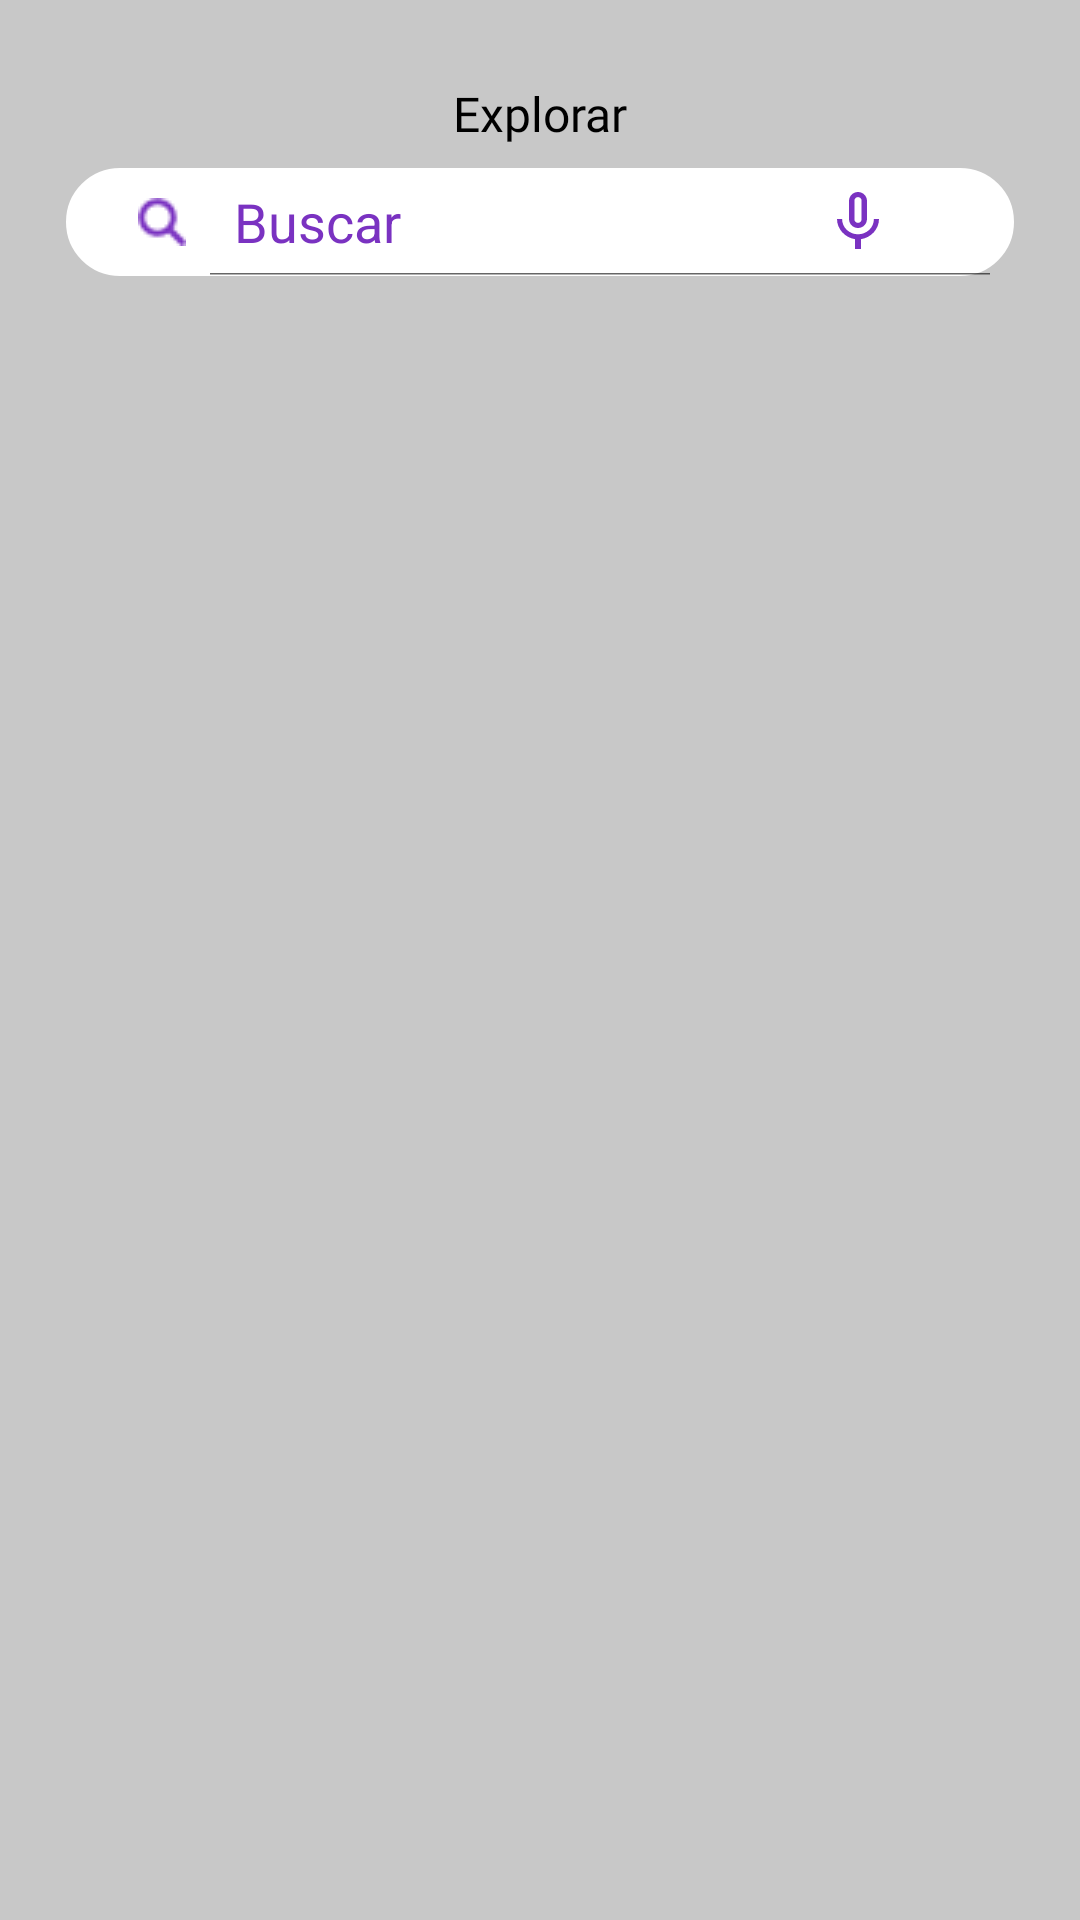

Icons on this 1080 x 1920 Android screen, each with its box as (x1, y1, x2, y2):
microphone: (837, 192, 879, 249)
